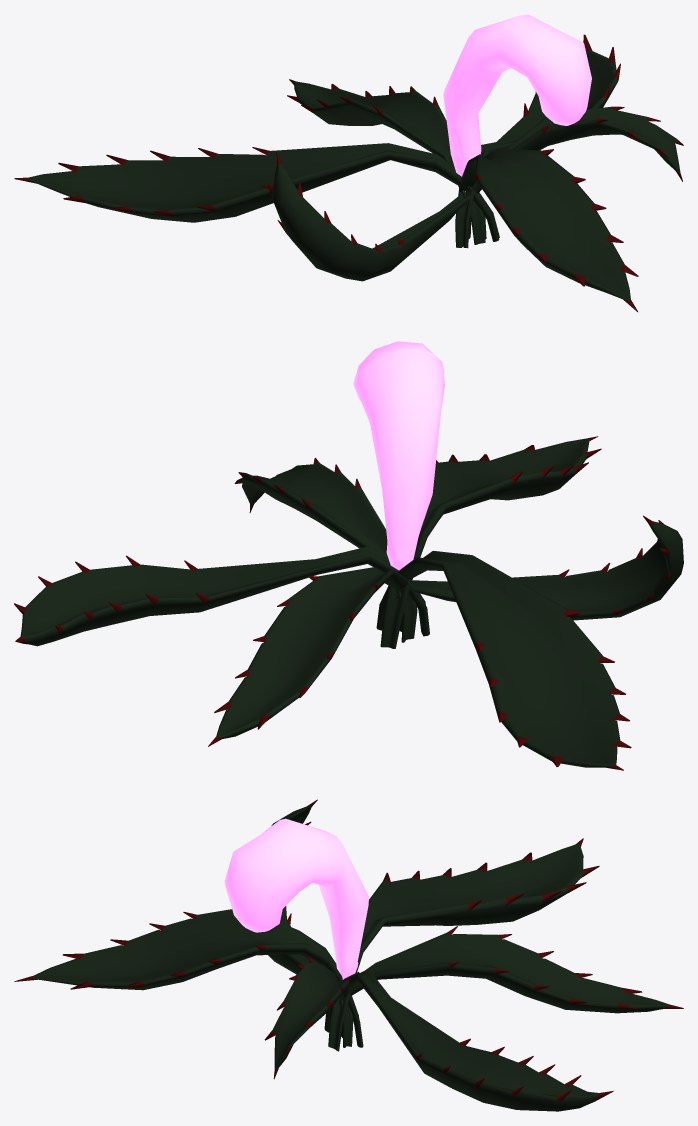
File: Plant_04_dead_LP.FBX
The picture shows the model from 3 angles, top to bottom: view 1: azimuth 30°, elevation 25°; view 2: azimuth 150°, elevation 25°; view 3: azimuth 270°, elevation 25°; orthographic projection. The views are drawn at different scales.
Visible parts, largest first — view 1: Plant_04_dead_LP; view 2: Plant_04_dead_LP; view 3: Plant_04_dead_LP.
Boxes of the visible parts, box(x1,y1,x2,y2) form: Plant_04_dead_LP: box(14, 14, 683, 311); Plant_04_dead_LP: box(14, 341, 683, 770); Plant_04_dead_LP: box(14, 799, 683, 1111).
Size of the model in its own units: 425 by 457 by 174.
